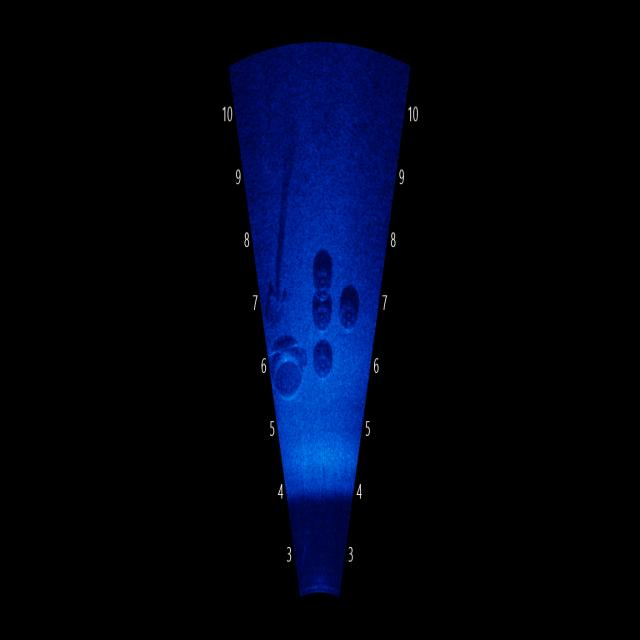circle: (273, 328, 309, 411), (304, 286, 338, 340), (308, 240, 339, 297), (336, 281, 366, 334), (309, 327, 339, 380)
